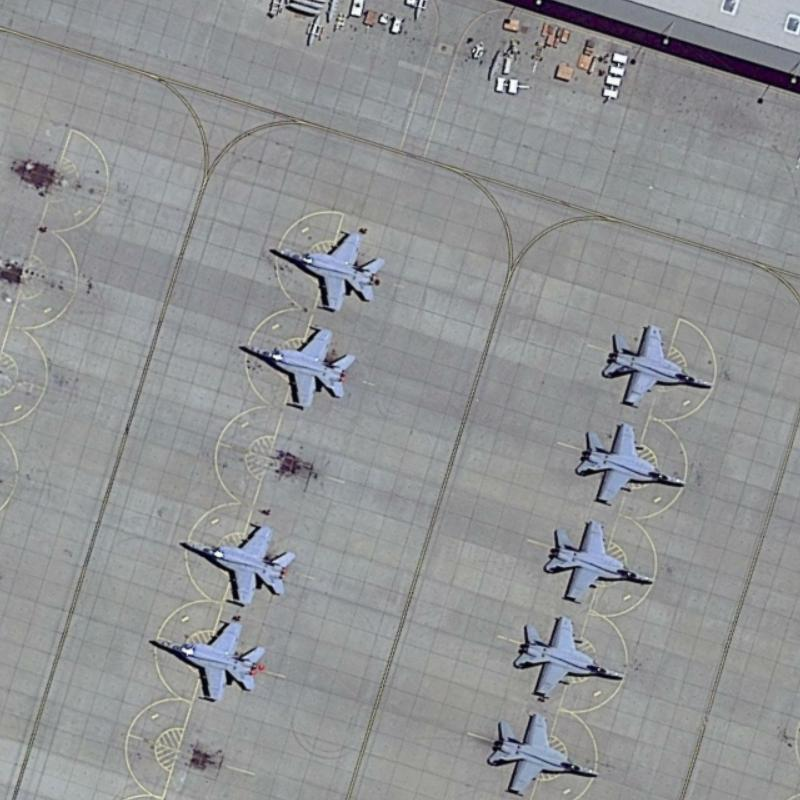A16: (140, 614, 270, 710), (234, 317, 359, 414), (569, 417, 692, 513), (258, 226, 390, 315), (479, 707, 606, 799), (171, 517, 299, 608), (597, 315, 717, 411), (508, 611, 631, 702), (539, 516, 660, 607)
